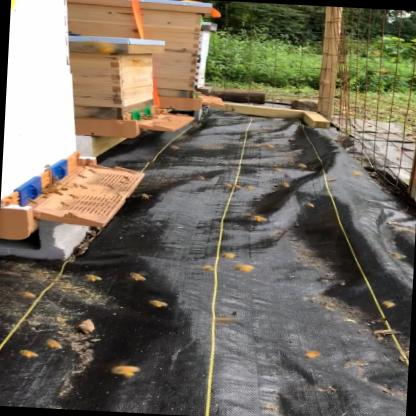bee: (65, 164, 142, 197), (75, 164, 137, 194), (30, 182, 88, 212), (6, 278, 42, 302), (133, 294, 177, 312), (142, 190, 184, 206), (248, 211, 286, 228), (50, 197, 80, 214), (194, 256, 219, 274), (122, 269, 150, 285), (78, 270, 102, 287), (376, 294, 395, 312)
